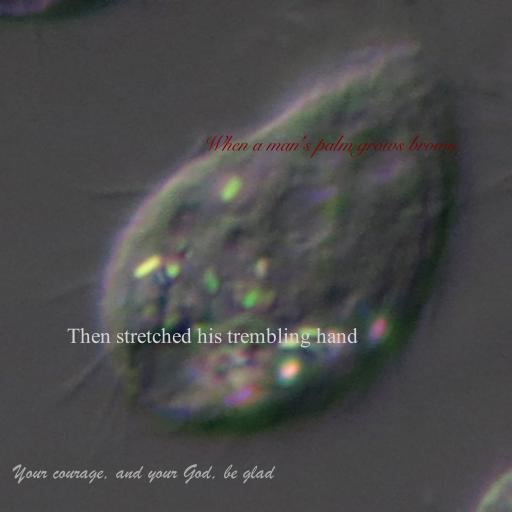Brush Script MT: (14, 464, 274, 484)
Snell Roundhand: (203, 135, 457, 158)
Times New Roman: (66, 328, 358, 348)
